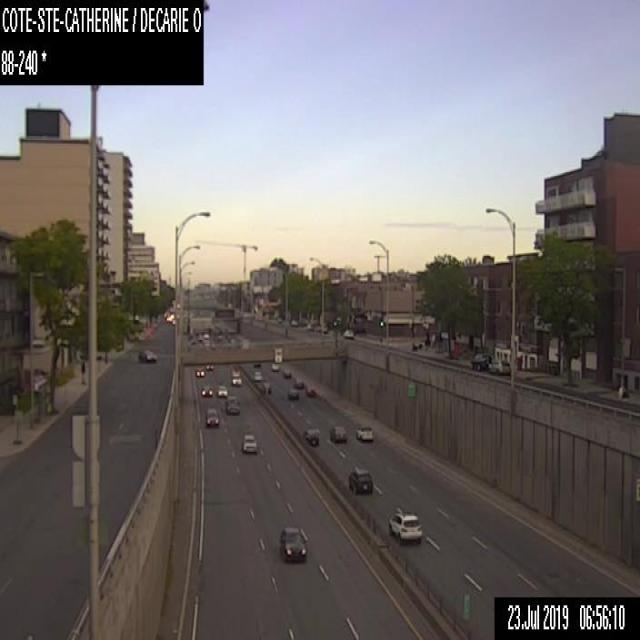pedestrian: (80, 358, 86, 384)
vehicle: (387, 510, 422, 542), (279, 527, 305, 561), (348, 469, 372, 495), (328, 425, 348, 443), (470, 352, 490, 369), (224, 394, 240, 415), (240, 432, 255, 453), (302, 427, 318, 446), (488, 359, 509, 373), (355, 425, 373, 441), (205, 407, 218, 428), (138, 348, 156, 362), (199, 384, 213, 396), (304, 384, 316, 397), (216, 384, 228, 396), (287, 388, 299, 400), (231, 371, 242, 384), (194, 368, 204, 377), (294, 377, 303, 387), (342, 328, 353, 336), (270, 362, 279, 371), (282, 368, 290, 378), (253, 371, 261, 380), (290, 320, 298, 326), (205, 364, 213, 369), (306, 323, 314, 328)
